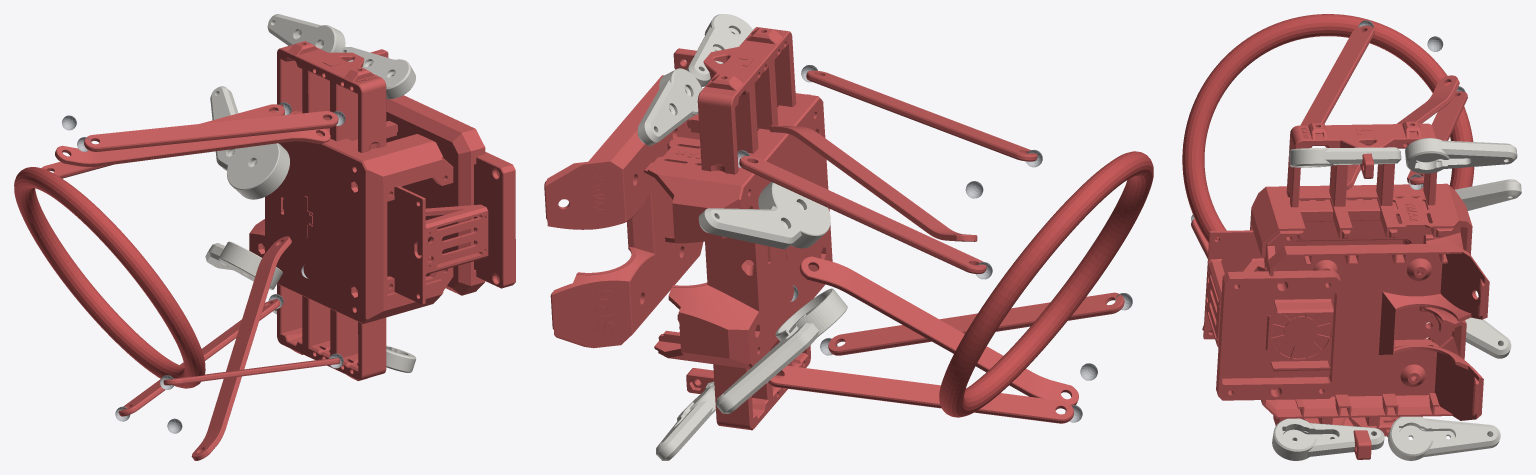
The model's file is ORS6_fused.glb.
3 views of the same model, side by side, from view 1: azimuth 30°, elevation 25°; view 2: azimuth 150°, elevation 25°; view 3: azimuth 270°, elevation 25° (orthographic). The views are drawn at different scales.
Visible parts, largest first — view 1: world; view 2: world; view 3: world.
Boxes of the visible parts, <box> form: world: <box>14,14,515,460</box>; world: <box>544,14,1153,460</box>; world: <box>1182,14,1521,460</box>.
Size of the model in its own units: 320 by 227 by 214.
